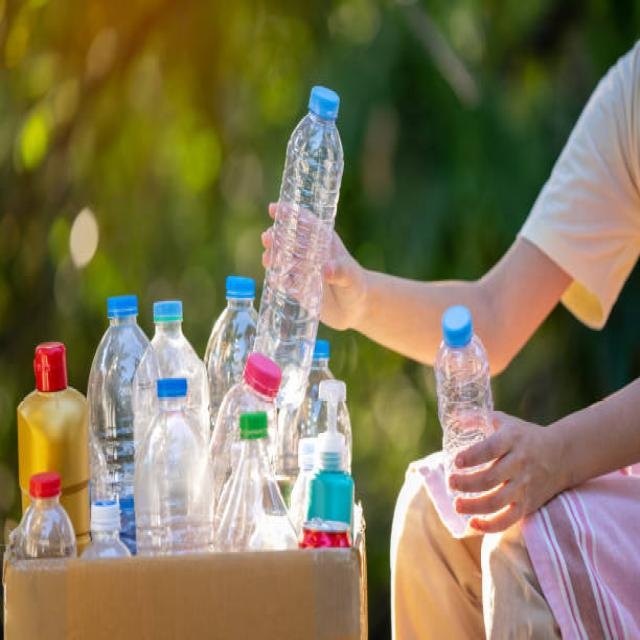plastic: (108, 320, 338, 530)
